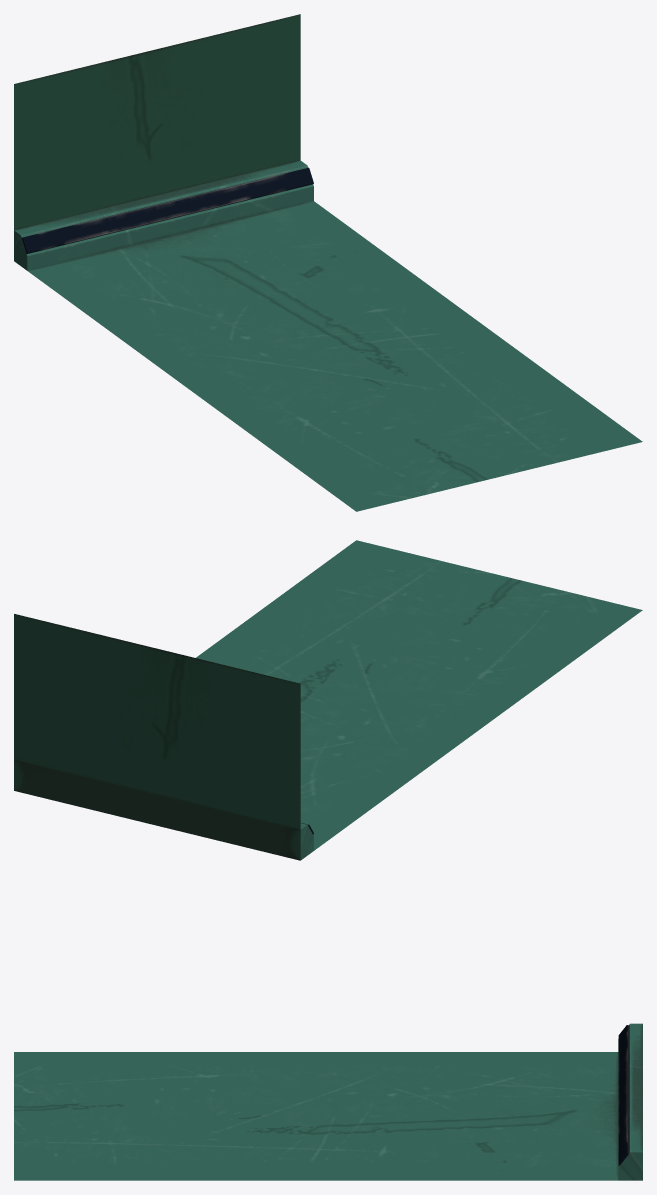
The model's file is 3 yuka2.fbx.
3 renders of one model, top to bottom at view 1: azimuth 30°, elevation 25°; view 2: azimuth 150°, elevation 25°; view 3: azimuth 270°, elevation 25°, orthographic. The views are drawn at different scales.
Parts seen in each view (by area): view 1: polySurface239, polySurface242, polySurface237, polySurface238; view 2: polySurface239, polySurface242; view 3: polySurface239, polySurface237, polySurface238.
Part boxes in pixels (x1,y1,x2,y2): polySurface239: (28, 201, 642, 511); polySurface242: (14, 14, 300, 230); polySurface237: (14, 160, 313, 270); polySurface238: (22, 167, 313, 253); polySurface239: (196, 540, 642, 850); polySurface242: (14, 614, 300, 860); polySurface239: (14, 1052, 618, 1180); polySurface237: (618, 1023, 642, 1180); polySurface238: (618, 1025, 628, 1165).
Size of the model in its own units: 29.58 by 17.47 by 61.23.
Materials: 1 (1 with a texture image).
